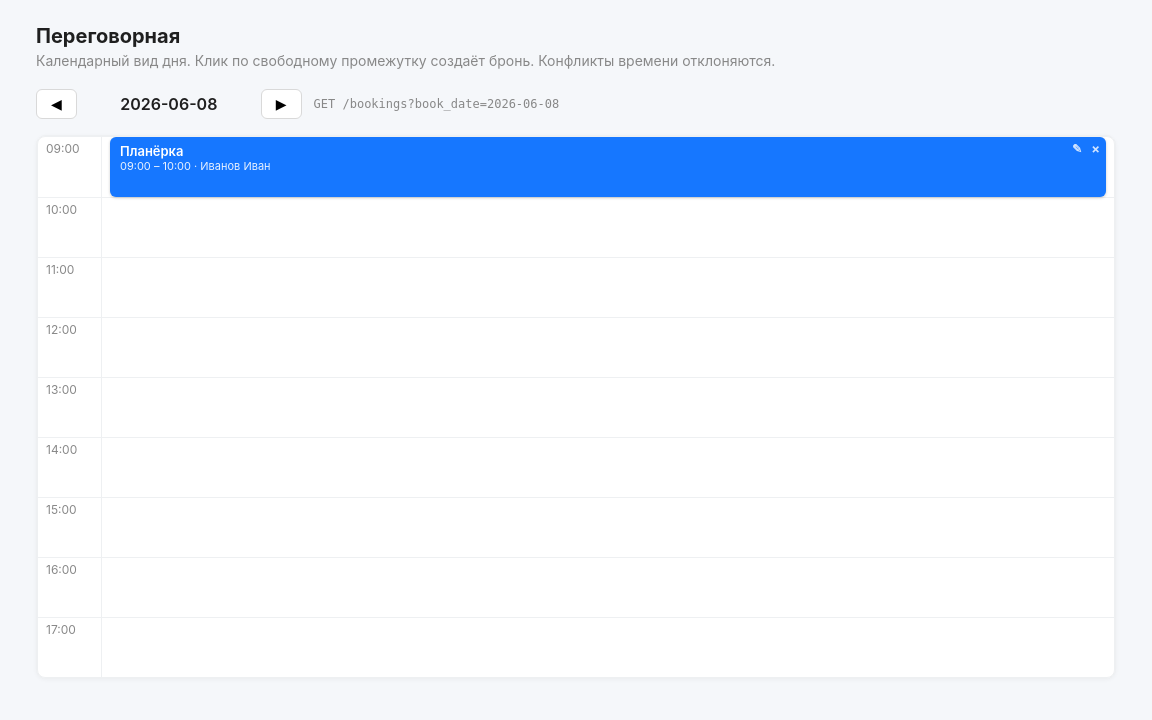
RoomPage › клик по ✎ открывает окно редактирования брони
✎ появляется, когда загрузился профиль (своя бронь).
What coordinates should you click on to do the following:
click the text with class "ev-edit"
I would click on:
 (1077, 148)
Its box is x1=1072 y1=141 x2=1082 y2=156.
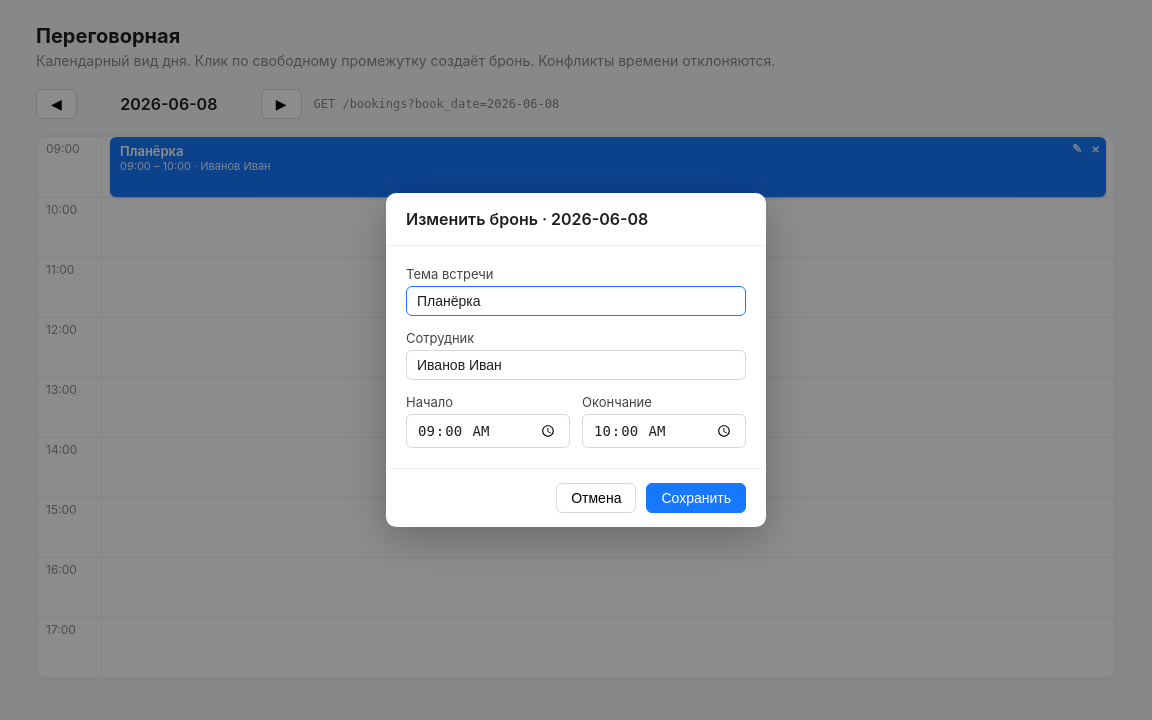
Expected: the text "Изменить бронь · 2026-06-08" is shown, x1=386 y1=193 x2=766 y2=246
Expected: the field showing "Планёрка" below "Тема встречи" is shown, x1=406 y1=286 x2=746 y2=316
